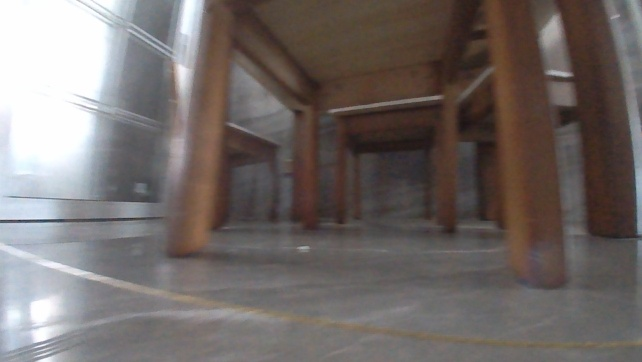dining_table1: (155, 0, 641, 295)
